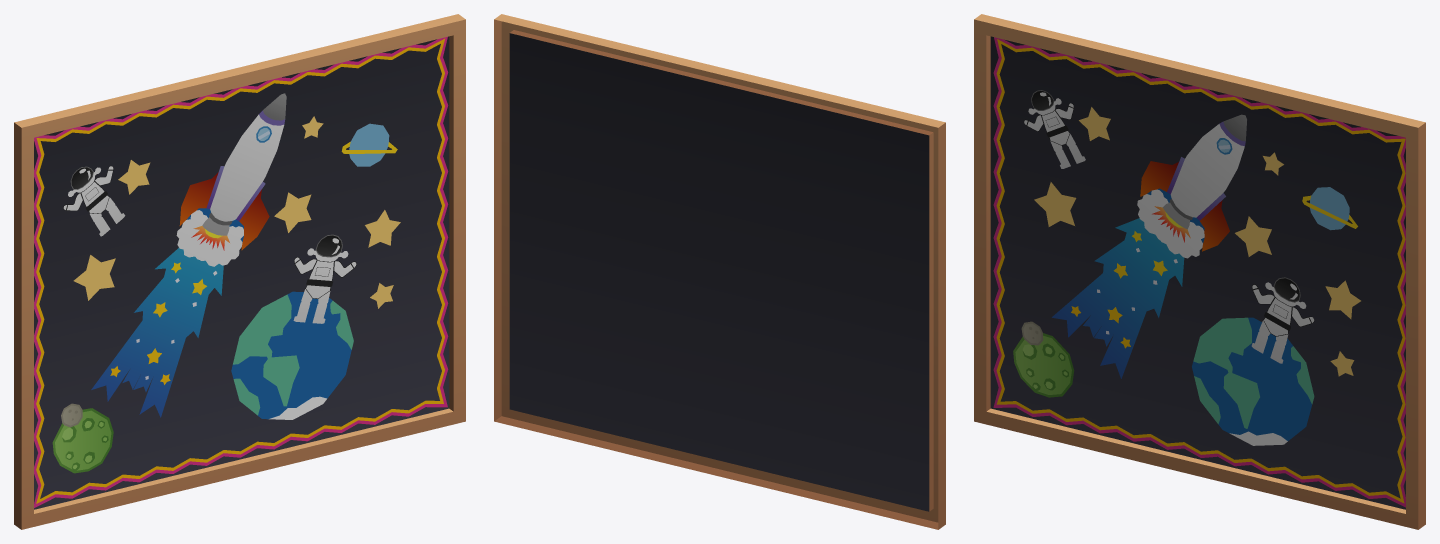
The model's file is CR_Board_005.FBX.
3 renders of one model, left to right at view 1: azimuth 30°, elevation 25°; view 2: azimuth 150°, elevation 25°; view 3: azimuth 330°, elevation 25°, orthographic.
Parts seen in each view (by area): view 1: CR_Board_005; view 2: CR_Board_005; view 3: CR_Board_005.
Part boxes in pixels (x1,y1,x2,y2): CR_Board_005: (14, 14, 465, 529); CR_Board_005: (494, 14, 945, 529); CR_Board_005: (974, 14, 1425, 529).
Size of the model in its own units: 191 by 165 by 5.55.
1 material, 1 textured.
